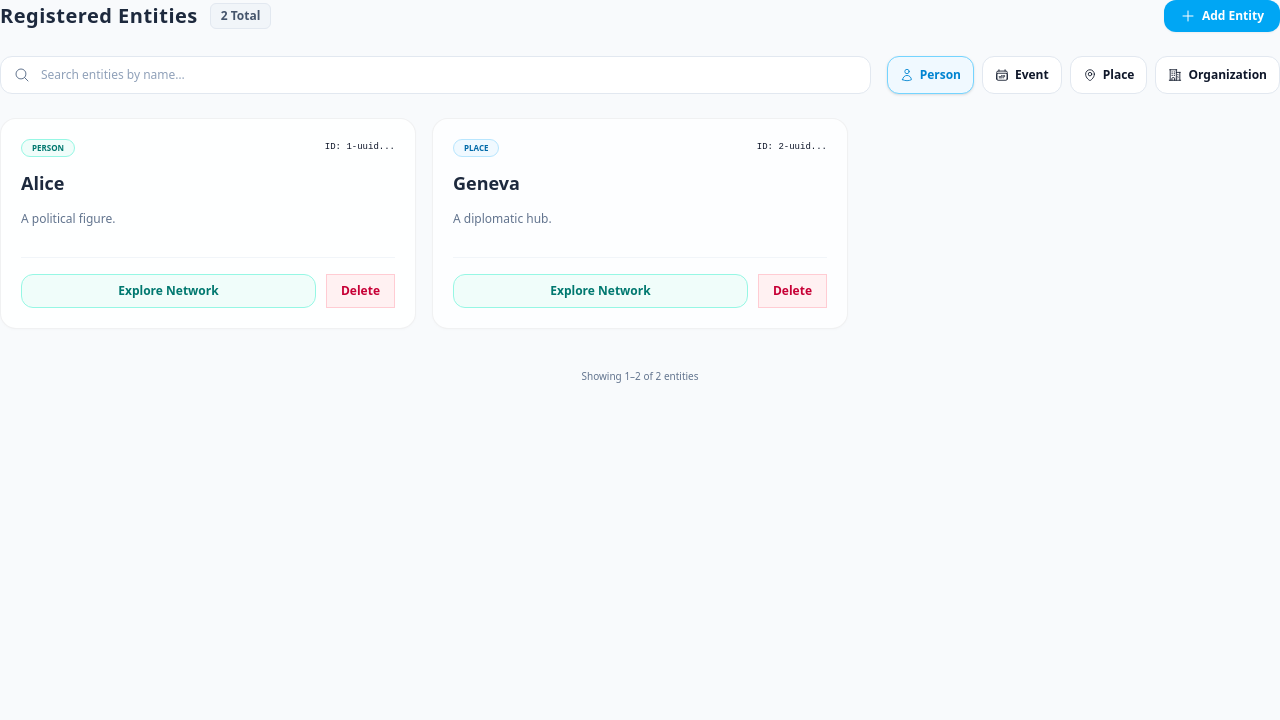
EntitiesList › opens the Add Entity modal when Add Entity is clicked
Expected: the heading "Alice" is shown, x1=21 y1=171 x2=64 y2=195
Click the button "Add Entity". click: (1222, 16)
box: x1=1164 y1=0 x2=1279 y2=32
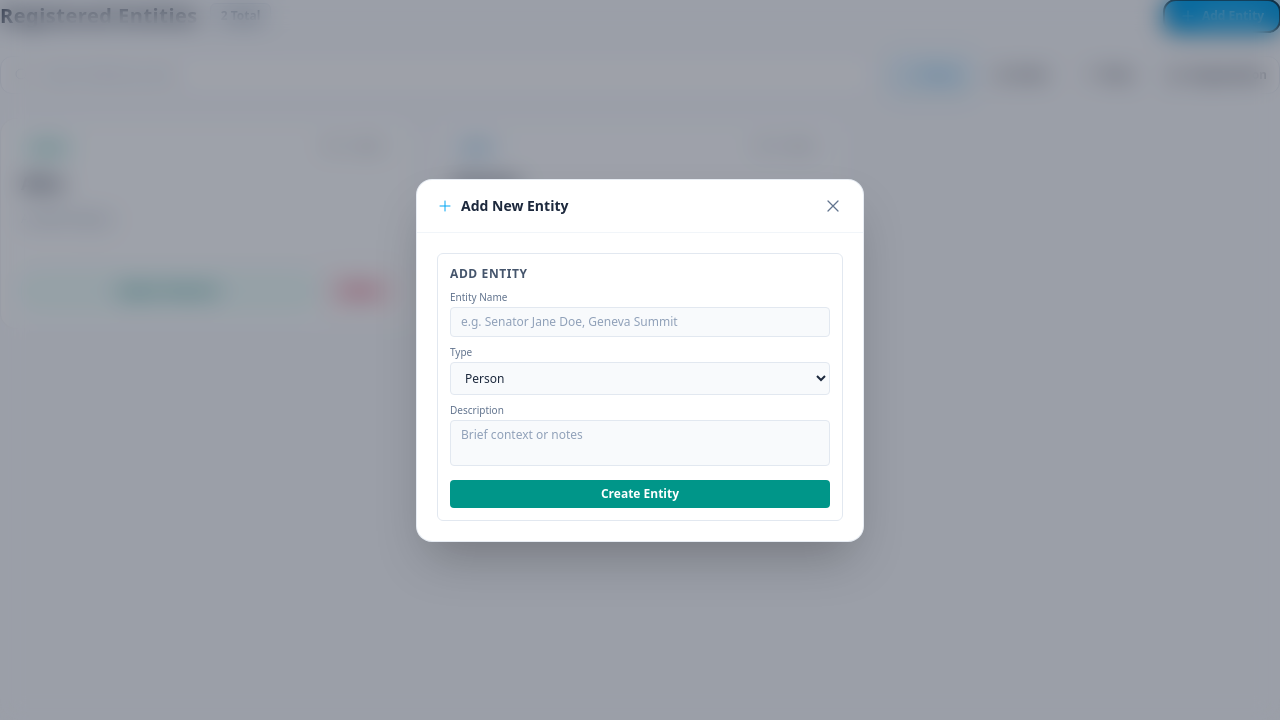
Result: the heading "Add New Entity" is shown at x1=437 y1=196 x2=568 y2=216
